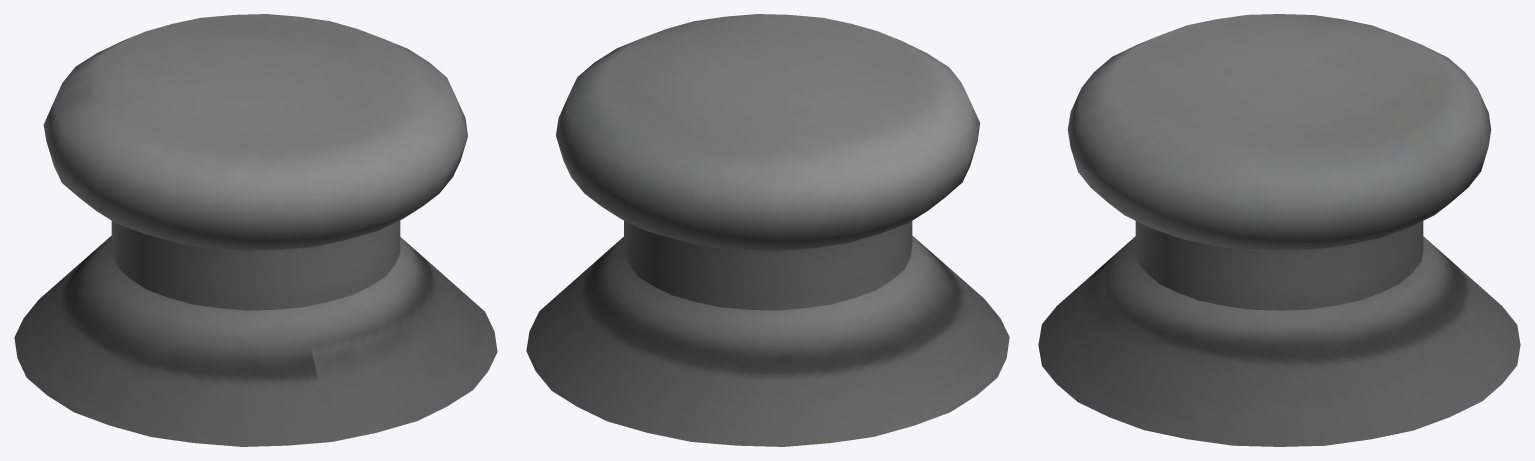
3 views of the same model, side by side, from view 1: azimuth 30°, elevation 25°; view 2: azimuth 150°, elevation 25°; view 3: azimuth 270°, elevation 25° (orthographic).
Size of the model in its own units: 0.0156 by 0.00931 by 0.0156.
Materials: 1 (1 with a texture image).
